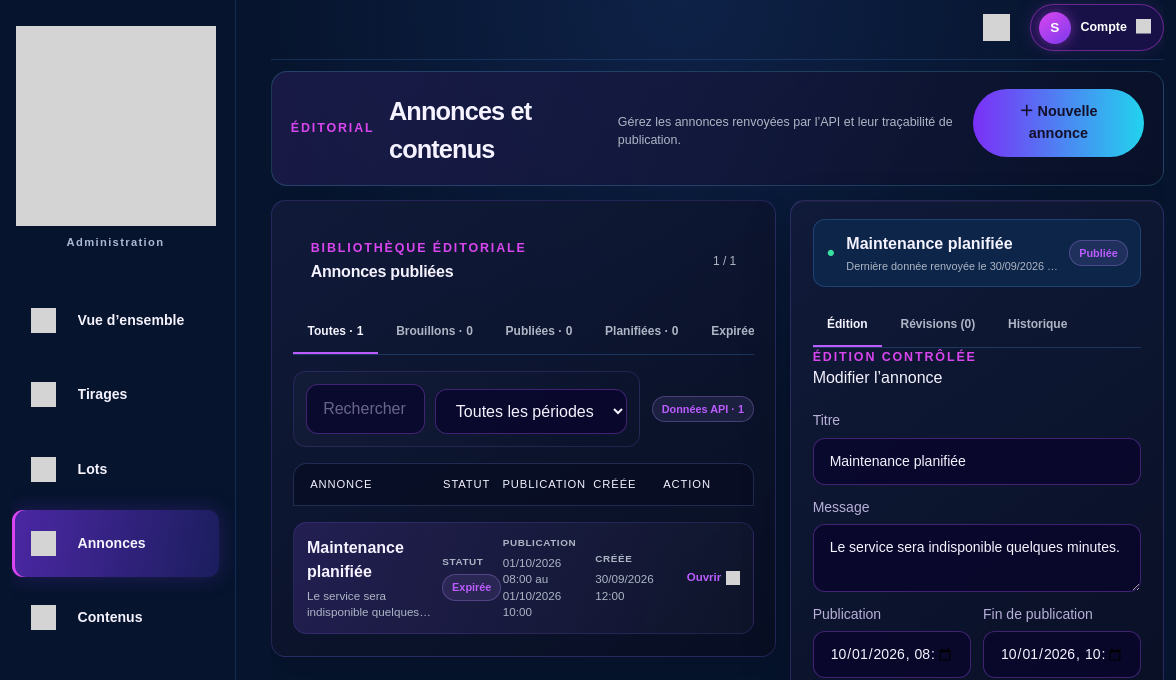
Scenario: expose une erreur d’autorisation explicite lors de l’enregistrement
This screenshot has width=1176, height=680.
Click the button with aria-label "Ouvrir l’annonce Maintenance planifiée": (523, 578) [294,523,753,633]
(page scrolled)
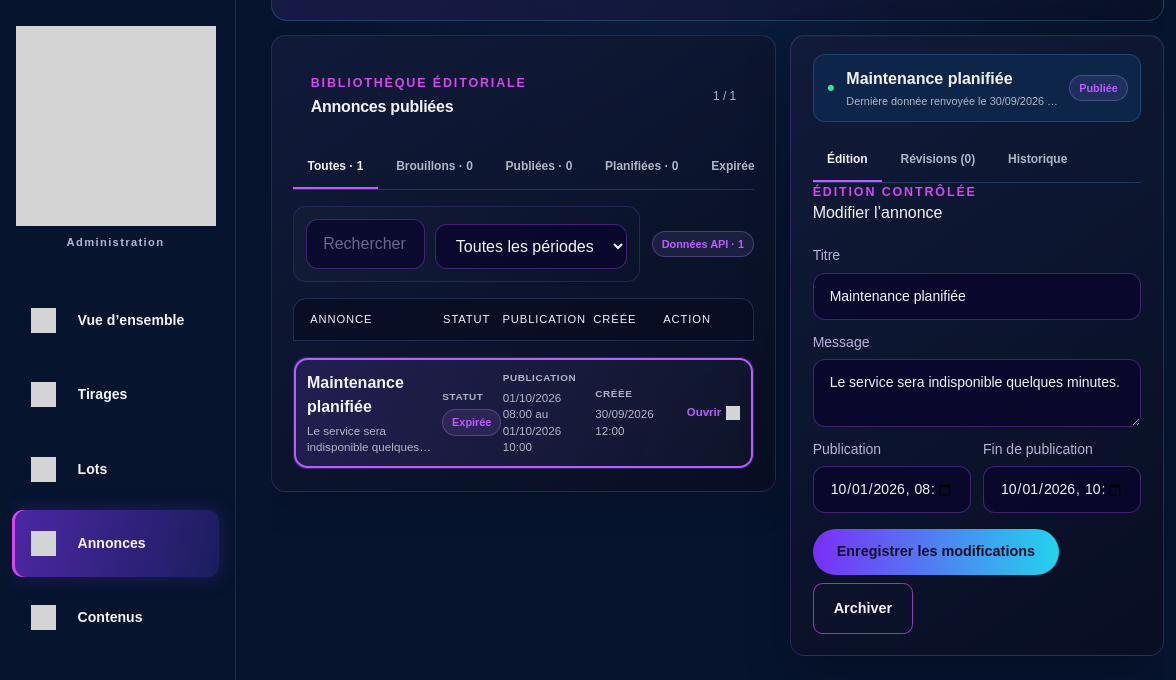
Click the button "Enregistrer les modifications": (936, 552) [813,529,1059,575]
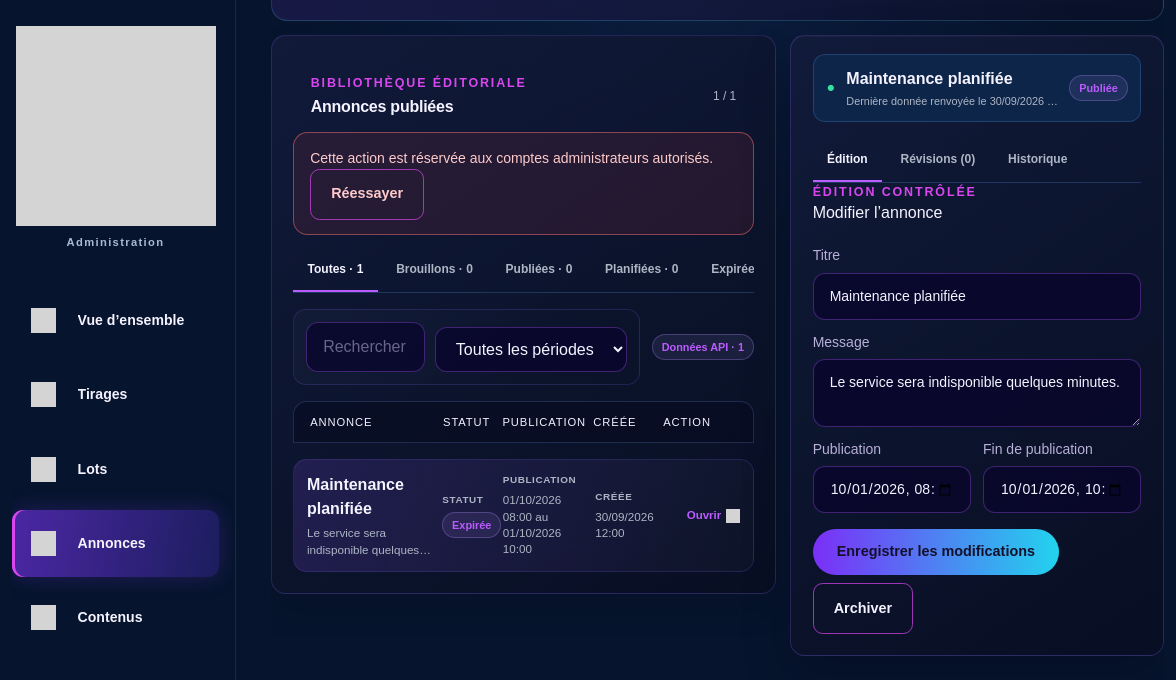
Expected: the message shows "réservée aux comptes administrateurs", [310,150,713,166]
